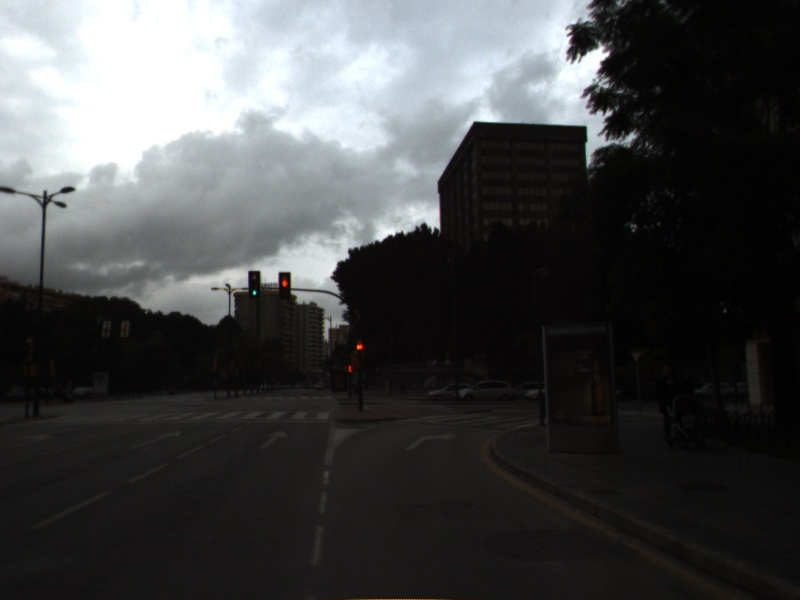RIGHT: (403, 430, 460, 453)
STRAIGHT: (126, 428, 184, 452), (256, 428, 291, 451)
